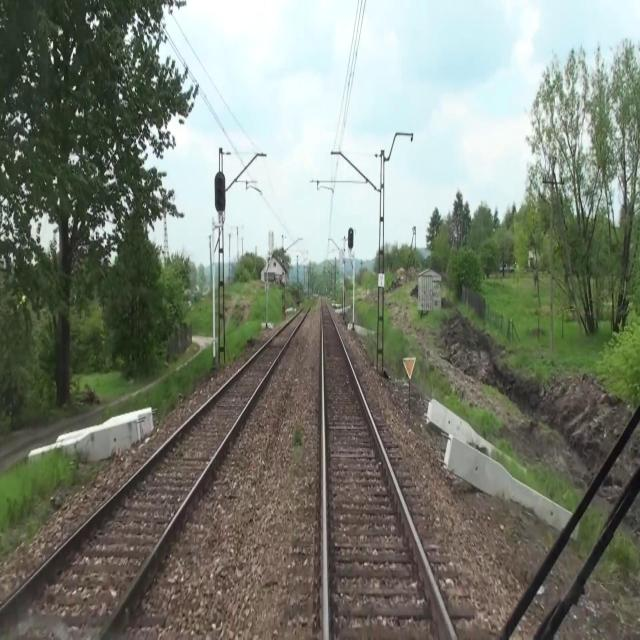rail-track: (0, 304, 310, 639), (322, 298, 451, 639)
